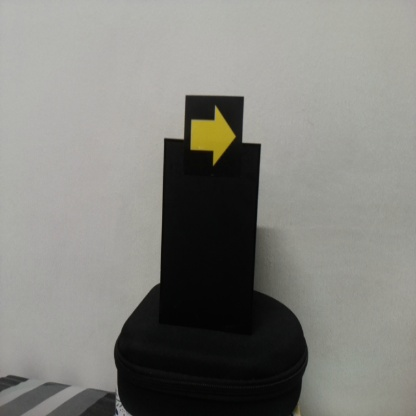id_3: (186, 95, 243, 179)
